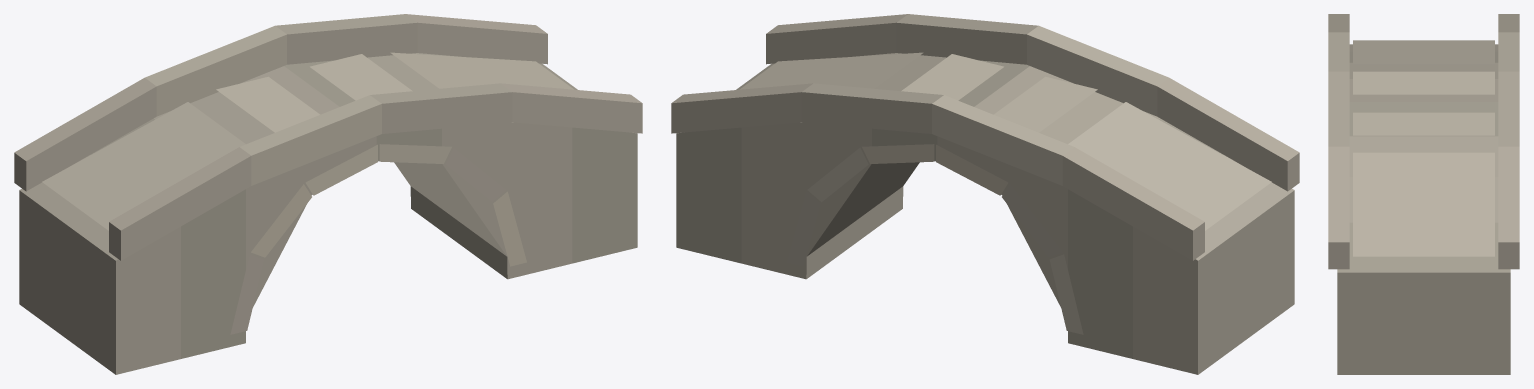
3 renders of one model, left to right at view 1: azimuth 30°, elevation 25°; view 2: azimuth 150°, elevation 25°; view 3: azimuth 270°, elevation 25°, orthographic. The views are drawn at different scales.
Visible parts, largest first — view 1: world; view 2: world; view 3: world.
Part boxes in pixels (x1,y1,x2,y2): world: [14, 14, 642, 374]; world: [671, 14, 1299, 374]; world: [1328, 14, 1519, 374].
Bounding box in the file's own units: 8.3 × 3.21 × 2.94.
